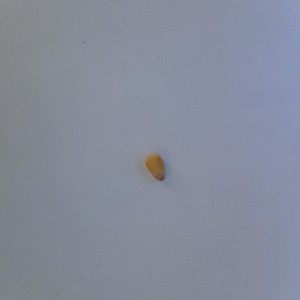maiz: (141, 153, 170, 186)
